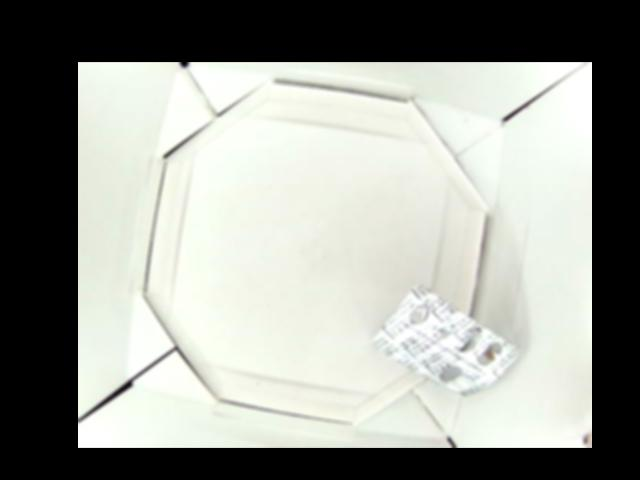Medicine: (374, 284, 516, 394)
